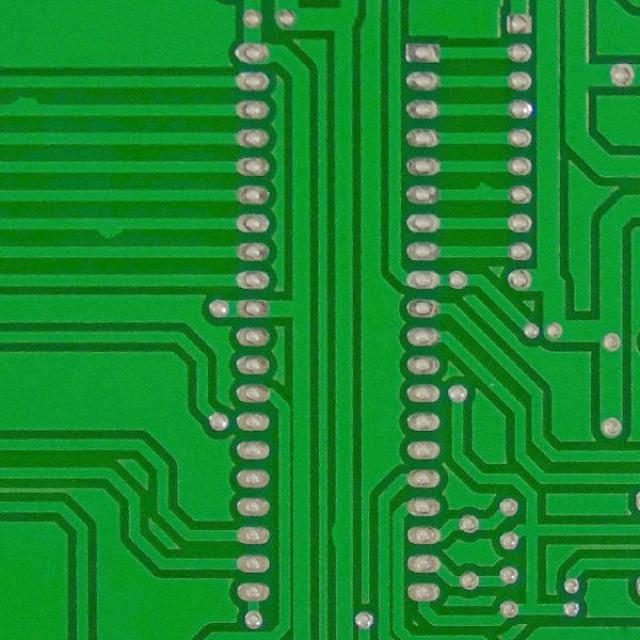Spur: (2, 93, 48, 124), (87, 212, 130, 241), (468, 177, 502, 206), (330, 517, 354, 555)
